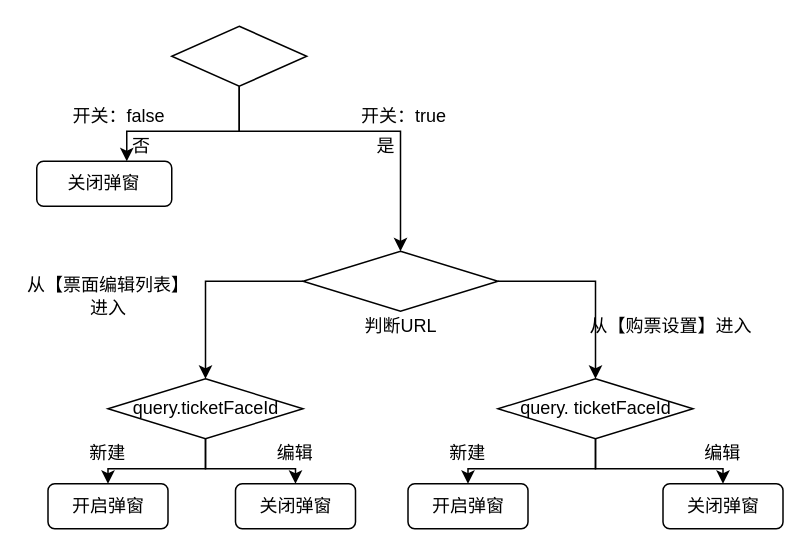
This 810x555 diagram has some shape labels left out. Each missing label, with the box of its shape:
query.event: (302, 250, 498, 311)
灰度: (170, 25, 307, 86)
